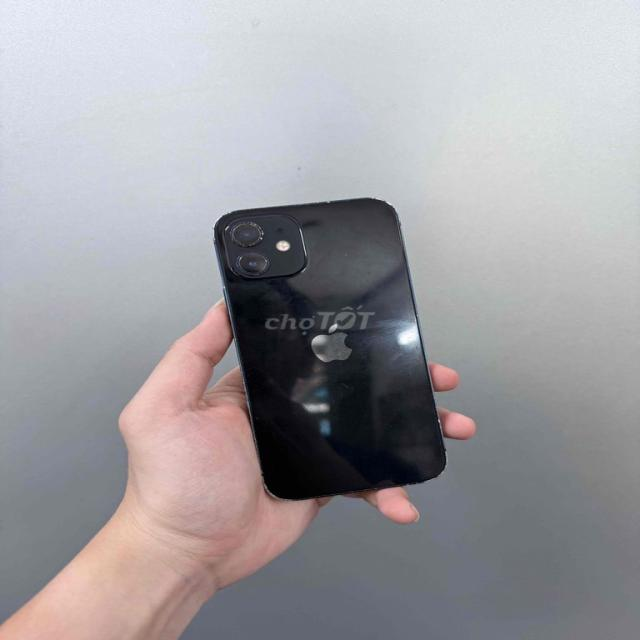gen_12_13: (213, 197, 452, 500)
